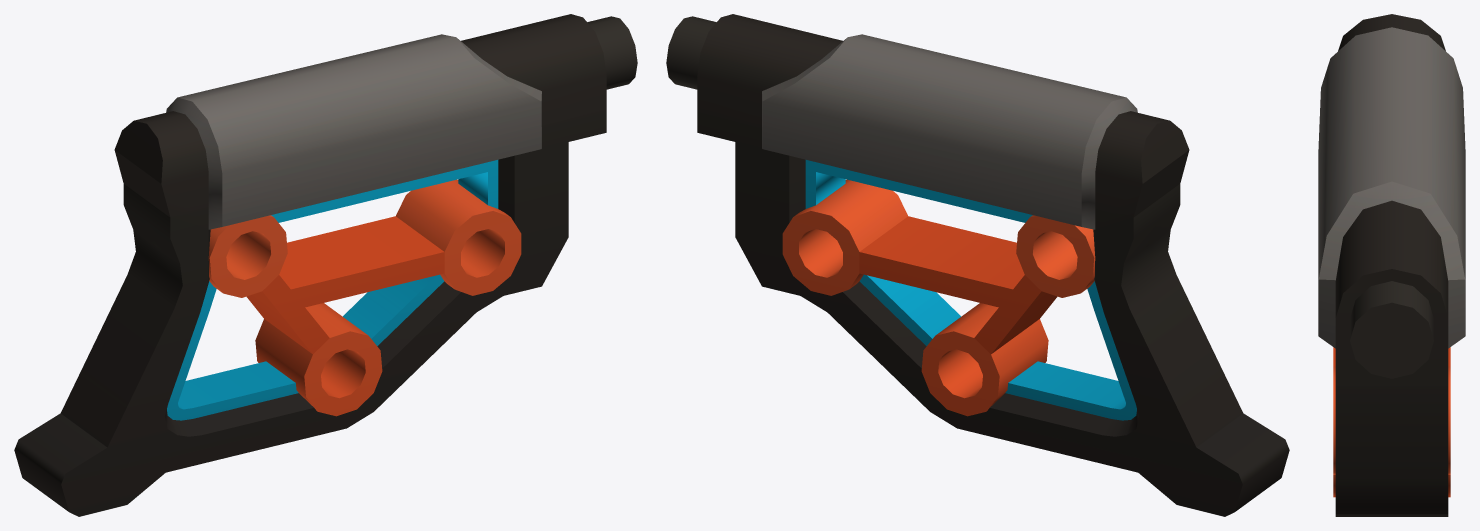
Rendered from AR1_ButtstockHeavy.fbx.
3 renders of one model, left to right at view 1: azimuth 30°, elevation 25°; view 2: azimuth 150°, elevation 25°; view 3: azimuth 270°, elevation 25°, orthographic. The views are drawn at different scales.
Visible parts, largest first — view 1: AR1_ButtstockHeavy; view 2: AR1_ButtstockHeavy; view 3: AR1_ButtstockHeavy.
Boxes of the visible parts, x1,y1,x2,y2 form: AR1_ButtstockHeavy: (14,14,637,516); AR1_ButtstockHeavy: (666,14,1289,516); AR1_ButtstockHeavy: (1318,14,1465,516).
Bounding box in the file's own units: 29.46 × 17.63 × 5.38.
